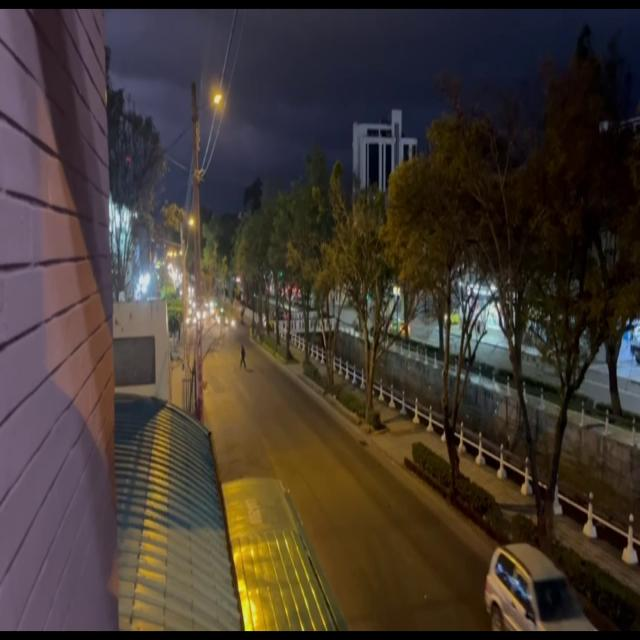SUV: (487, 547, 587, 636)
